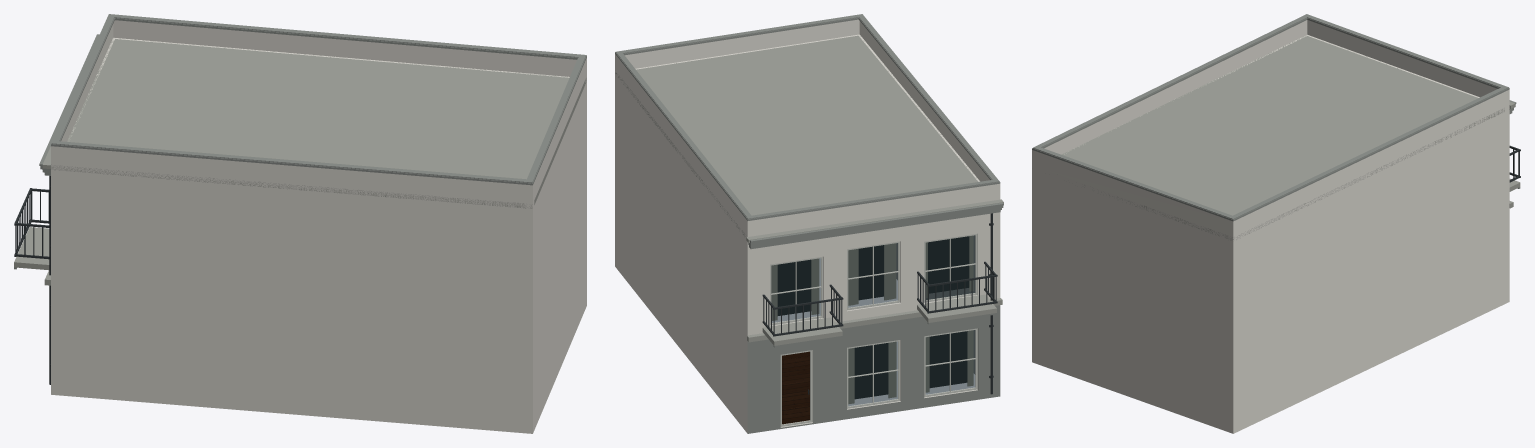
File: building.glb
The picture shows the model from 3 angles, left to right: view 1: azimuth 30°, elevation 25°; view 2: azimuth 150°, elevation 25°; view 3: azimuth 270°, elevation 25°; orthographic projection. The views are drawn at different scales.
Parts seen in each view (by area): view 1: main:0/edge0/z0/main:0/edge0/z0/wall_0_0/clip0, roof/main:0/roof_slab#0001, roof/main:0/parapet#0001, main:0/edge1/z0/main:0/edge1/z0/wall_0_0/core0, roof/main:0/parapet_cap#0002, roof/main:0/parapet_cap#0001, main:0/edge1/z0/main:0/edge1/z0/wall_0_0/clip1, main:0/edge3/z0/proj_balcony_02/balcony_slab#0001, main:0/edge2/z0/main:0/edge2/z0/wall_0_0/clip0; view 2: roof/main:0/roof_slab#0001, main:0/edge2/z0/main:0/edge2/z0/wall_0_0/clip0, roof/main:0/parapet#0001, main:0/edge3/z0/main:0/edge3/z0/wall_0_0/core0, roof/main:0/parapet_cap#0002, main:0/edge3/z0/main:0/edge3/z0/coating_0_0_0/clip10, main:0/edge3/z0/opening_u5.34_v0.30/glazing#0001, main:0/edge3/z0/opening_u3.00_v3.40/glazing#0001, main:0/edge3/z0/opening_u3.00_v0.30/glazing#0001, main:0/edge3/z0/opening_u5.34_v3.28/glazing#0001, main:0/edge3/z0/opening_u0.67_v3.28/glazing#0001, main:0/edge3/z0/main:0/edge3/z0/coating_0_0_0/clip5 (+36 smaller); view 3: main:0/edge2/z0/main:0/edge2/z0/wall_0_0/clip0, main:0/edge1/z0/main:0/edge1/z0/wall_0_0/core0, roof/main:0/roof_slab#0001, roof/main:0/parapet#0001, roof/main:0/parapet_cap#0002, roof/main:0/parapet_cap#0001, main:0/edge0/z0/main:0/edge0/z0/wall_0_0/clip0, main:0/edge3/z0/main:0/edge3/z0/wall_0_0/clip1.
Boxes of the visible parts, x1,y1,x2,y2 form: main:0/edge0/z0/main:0/edge0/z0/wall_0_0/clip0: (51, 165, 534, 433); roof/main:0/roof_slab#0001: (51, 38, 586, 208); roof/main:0/parapet#0001: (51, 20, 586, 203); main:0/edge1/z0/main:0/edge1/z0/wall_0_0/core0: (534, 76, 586, 429); roof/main:0/parapet_cap#0002: (51, 14, 586, 183); roof/main:0/parapet_cap#0001: (51, 14, 586, 185); main:0/edge1/z0/main:0/edge1/z0/wall_0_0/clip1: (525, 203, 532, 433); main:0/edge3/z0/proj_balcony_02/balcony_slab#0001: (14, 227, 49, 270); main:0/edge2/z0/main:0/edge2/z0/wall_0_0/clip0: (113, 38, 569, 77); roof/main:0/roof_slab#0001: (615, 35, 978, 236); main:0/edge2/z0/main:0/edge2/z0/wall_0_0/clip0: (615, 70, 752, 432); roof/main:0/parapet#0001: (615, 19, 1000, 236); main:0/edge3/z0/main:0/edge3/z0/wall_0_0/core0: (747, 212, 1000, 427); roof/main:0/parapet_cap#0002: (615, 14, 999, 219); main:0/edge3/z0/main:0/edge3/z0/coating_0_0_0/clip10: (747, 305, 1000, 359); main:0/edge3/z0/opening_u5.34_v0.30/glazing#0001: (925, 330, 975, 394); main:0/edge3/z0/opening_u3.00_v3.40/glazing#0001: (848, 243, 897, 307); main:0/edge3/z0/opening_u3.00_v0.30/glazing#0001: (848, 341, 897, 405); main:0/edge3/z0/opening_u5.34_v3.28/glazing#0001: (925, 235, 975, 299); main:0/edge3/z0/opening_u0.67_v3.28/glazing#0001: (771, 258, 820, 322); main:0/edge3/z0/main:0/edge3/z0/coating_0_0_0/clip5: (813, 348, 846, 414); main:0/edge2/z0/main:0/edge2/z0/wall_0_0/clip0: (1233, 106, 1509, 433); main:0/edge1/z0/main:0/edge1/z0/wall_0_0/core0: (1032, 166, 1233, 433); roof/main:0/roof_slab#0001: (1061, 35, 1509, 240); roof/main:0/parapet#0001: (1032, 20, 1509, 237); roof/main:0/parapet_cap#0002: (1033, 14, 1508, 219); roof/main:0/parapet_cap#0001: (1032, 18, 1509, 221); main:0/edge0/z0/main:0/edge0/z0/wall_0_0/clip0: (1032, 34, 1308, 363); main:0/edge3/z0/main:0/edge3/z0/wall_0_0/clip1: (1505, 106, 1509, 303).
Size of the model in its own units: 14.38 by 6.77 by 13.97.
Materials: 9 (1 with a texture image).
